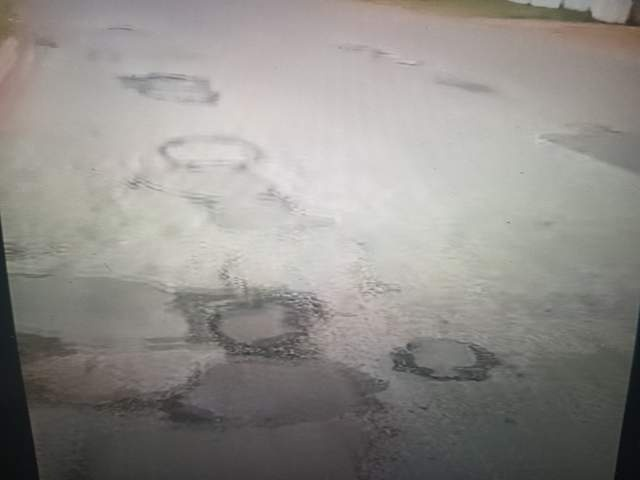pothole: (122, 403, 340, 480)
